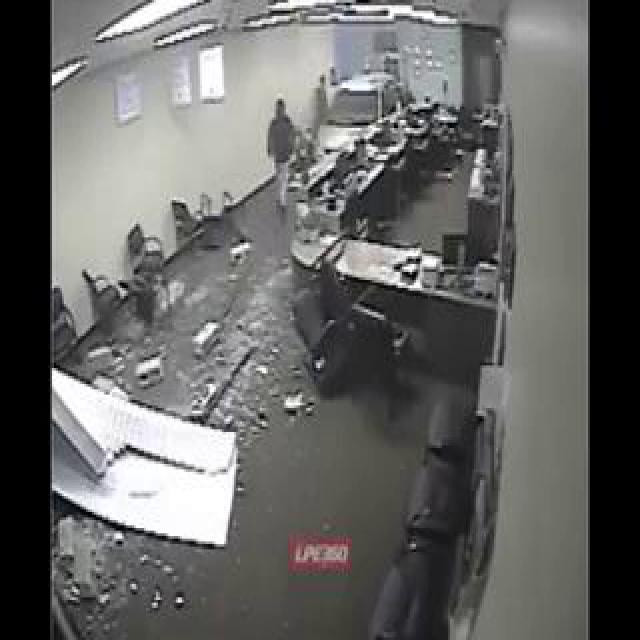burglary: (169, 0, 402, 452)
